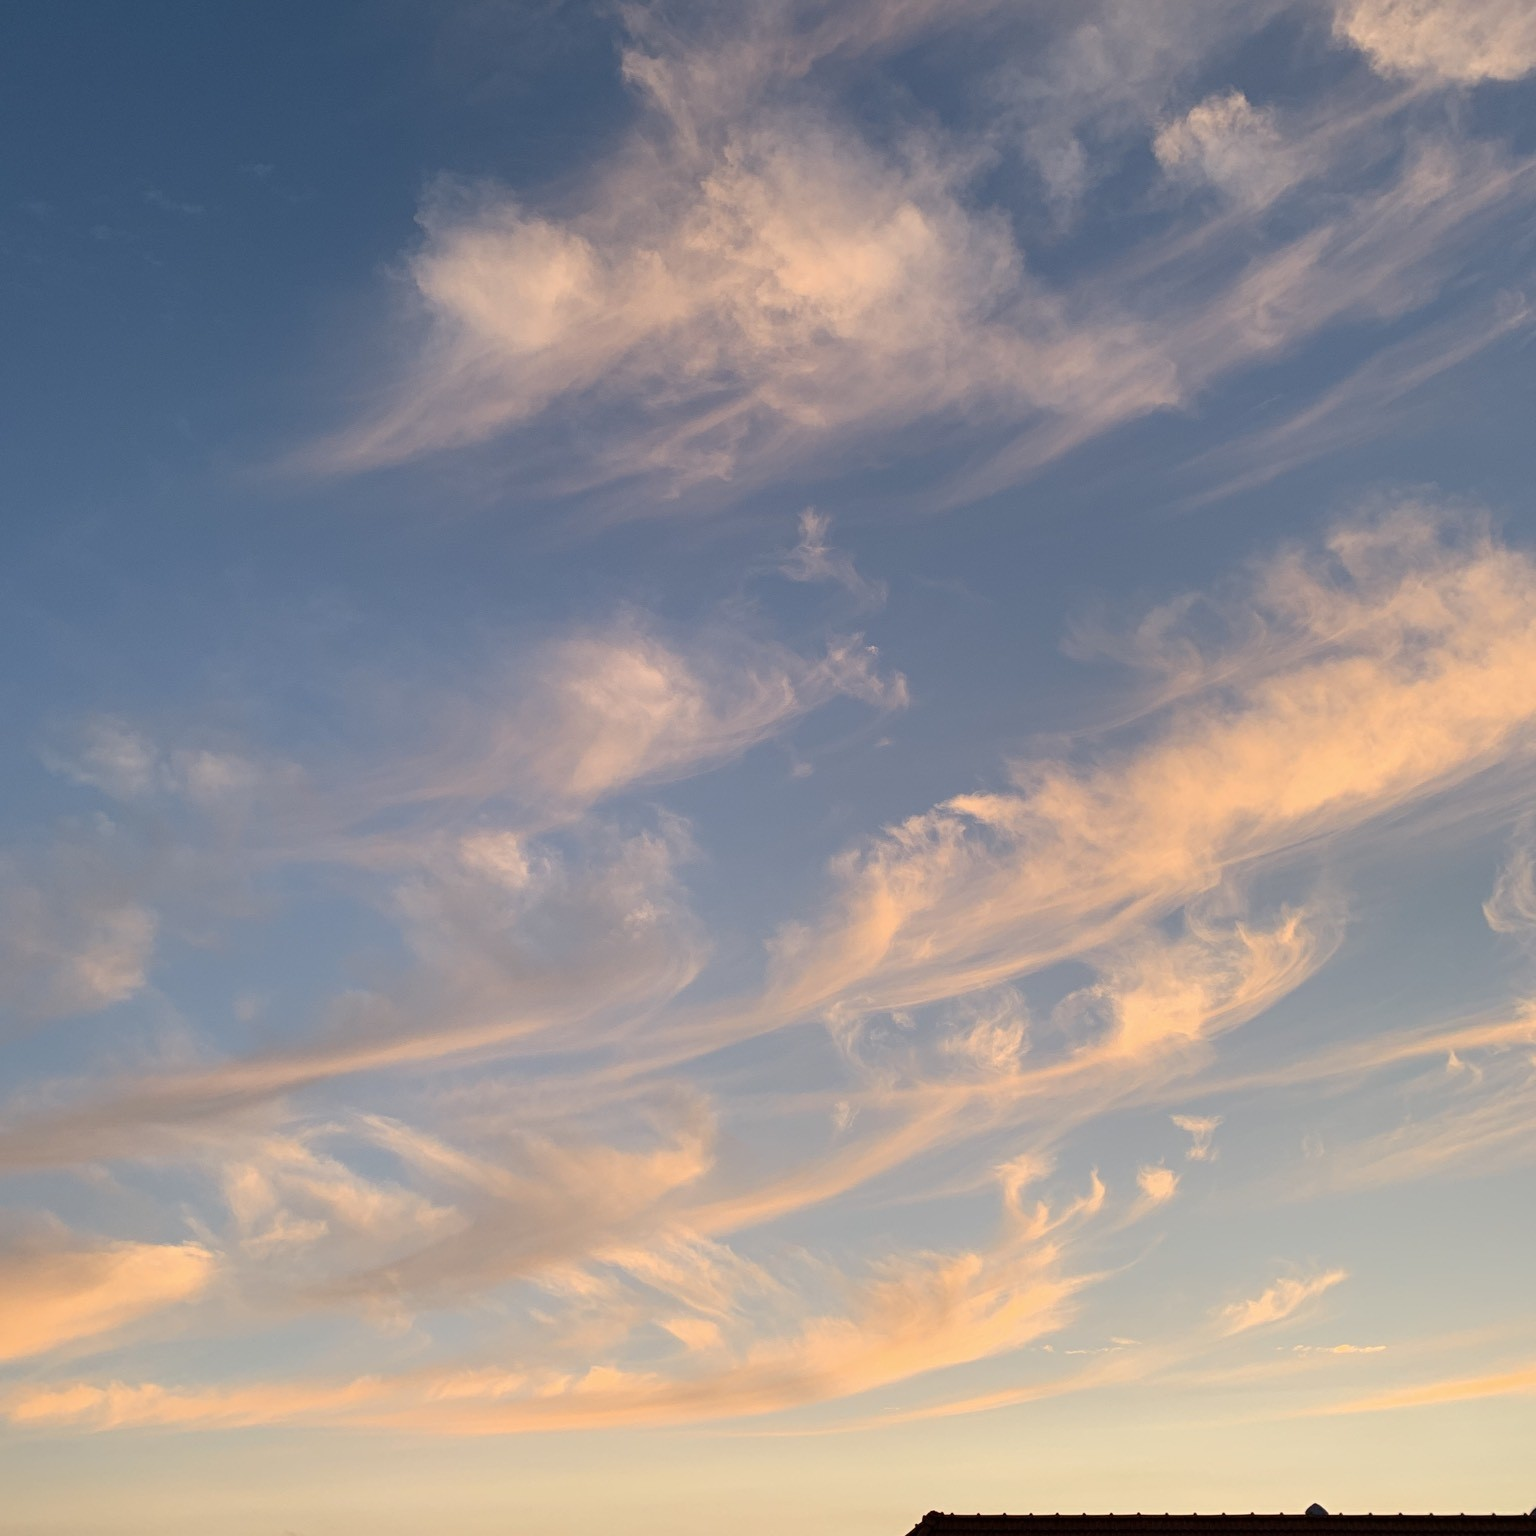Cirrus: (397, 14, 1155, 515), (760, 533, 1525, 987), (107, 558, 895, 855), (103, 1248, 1138, 1440), (86, 809, 747, 1101), (248, 1063, 738, 1325), (857, 911, 1353, 1110)
